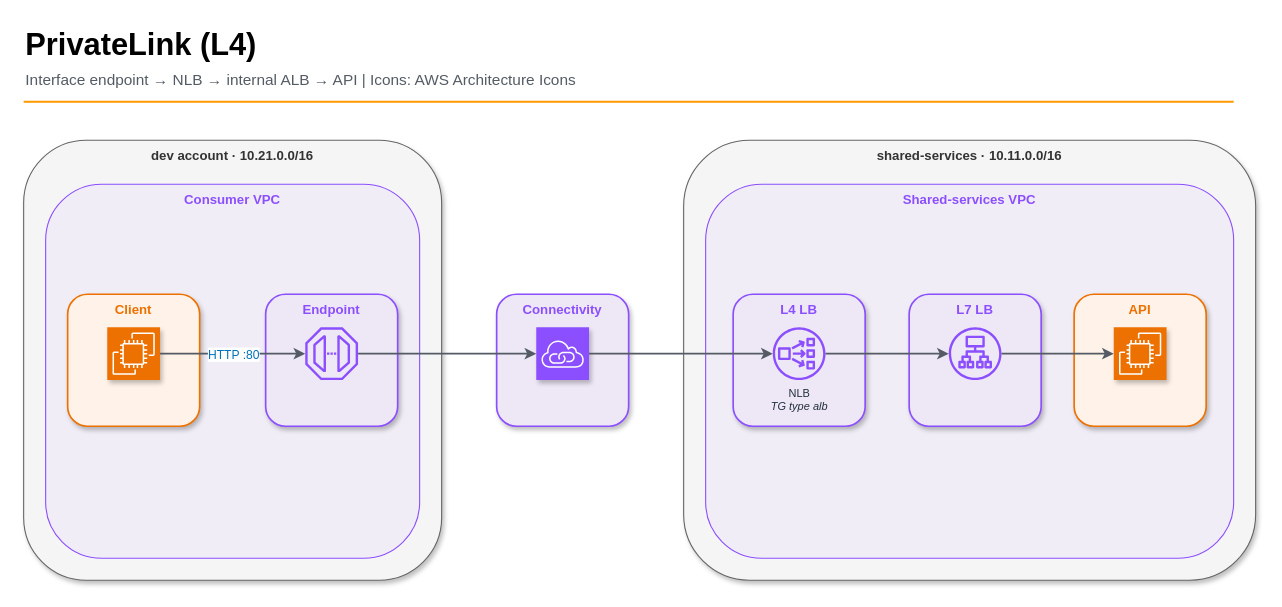
Some shapes in this 1282 by 607 pixel diagram are drawn without their labels. The centre of each missing label's shape, as x and y in pixels:
ALB internal: the point at 974,353
Amazon EC2 pattern=privatelink: the point at 1140,355
Amazon EC2 test instance: the point at 134,355
AWS PrivateLink endpoint service: the point at 563,355
VPC Endpoint interface: the point at 331,353
